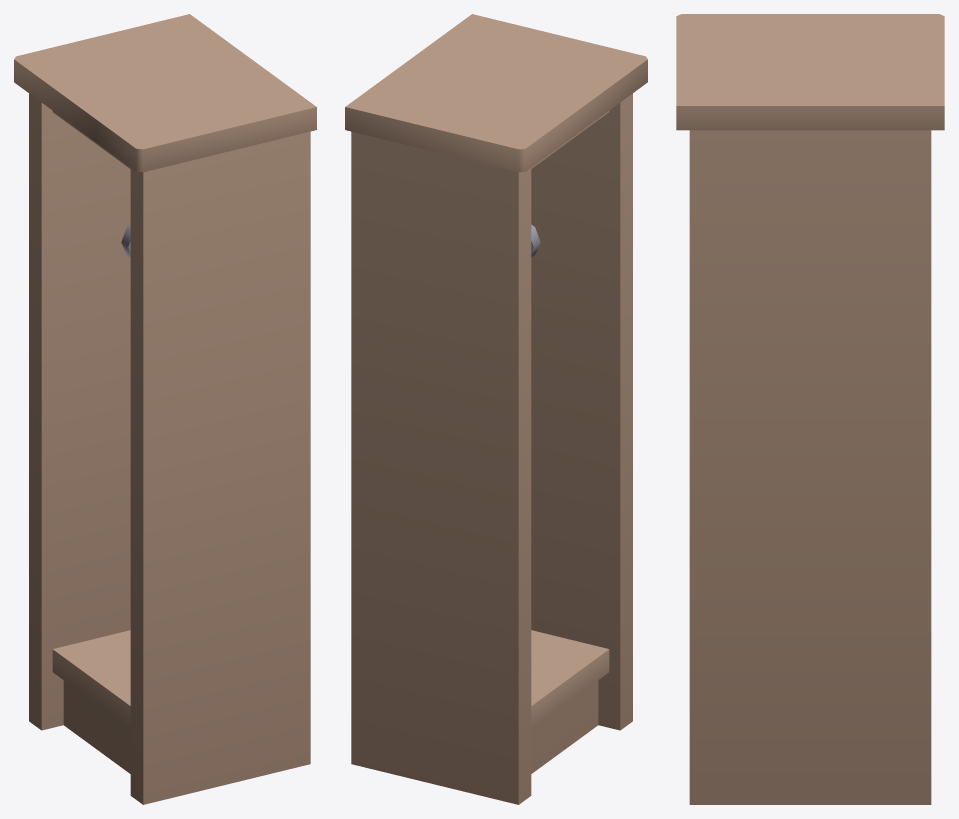
Rendered from cabinet-clothing-single.glb.
3 renders of one model, left to right at view 1: azimuth 30°, elevation 25°; view 2: azimuth 150°, elevation 25°; view 3: azimuth 270°, elevation 25°, orthographic. The views are drawn at different scales.
Visible parts, largest first — view 1: cabinet-clothing-single; view 2: cabinet-clothing-single; view 3: cabinet-clothing-single.
Boxes of the visible parts, x1,y1,x2,y2 form: cabinet-clothing-single: (14,14,316,804); cabinet-clothing-single: (345,14,647,804); cabinet-clothing-single: (676,14,944,804).
Bounding box in the file's own units: 0.405 × 1.44 × 0.5.
